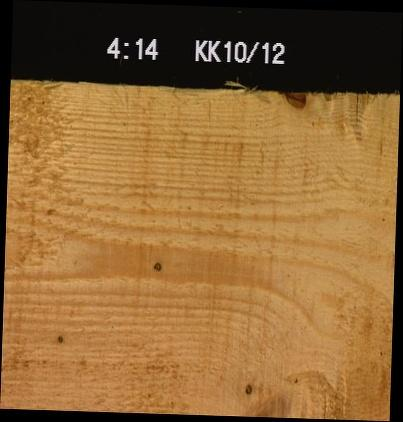dry_knot: (149, 257, 163, 273), (240, 379, 253, 396), (54, 328, 66, 346)
